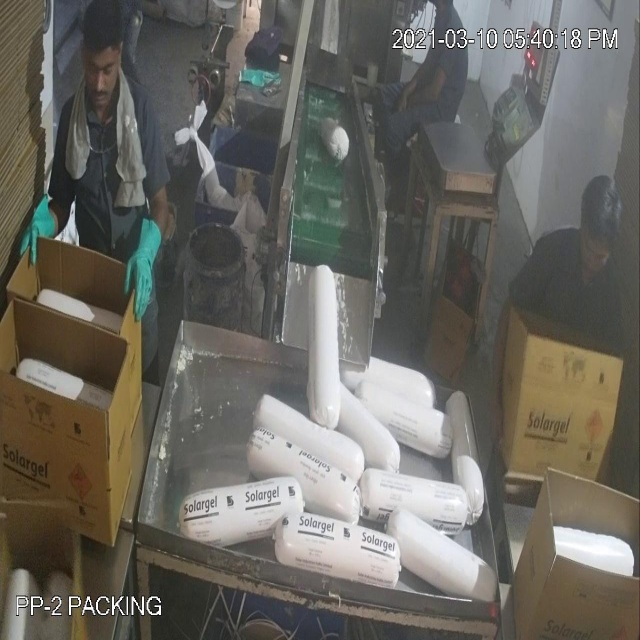Guantes: (117, 198, 170, 338), (16, 190, 65, 275)
Sin_guantes: (483, 292, 520, 462), (401, 51, 458, 116)
